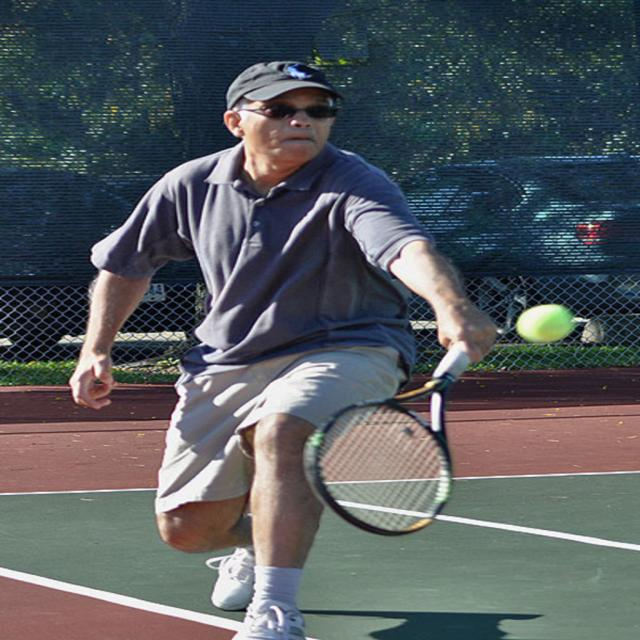Tennis ball: (521, 306, 575, 342)
